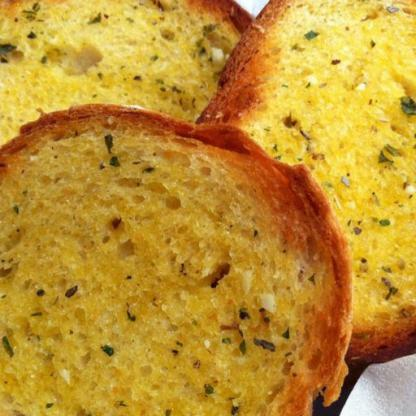toast bread: (0, 105, 340, 415), (202, 0, 415, 356), (0, 0, 261, 146)
